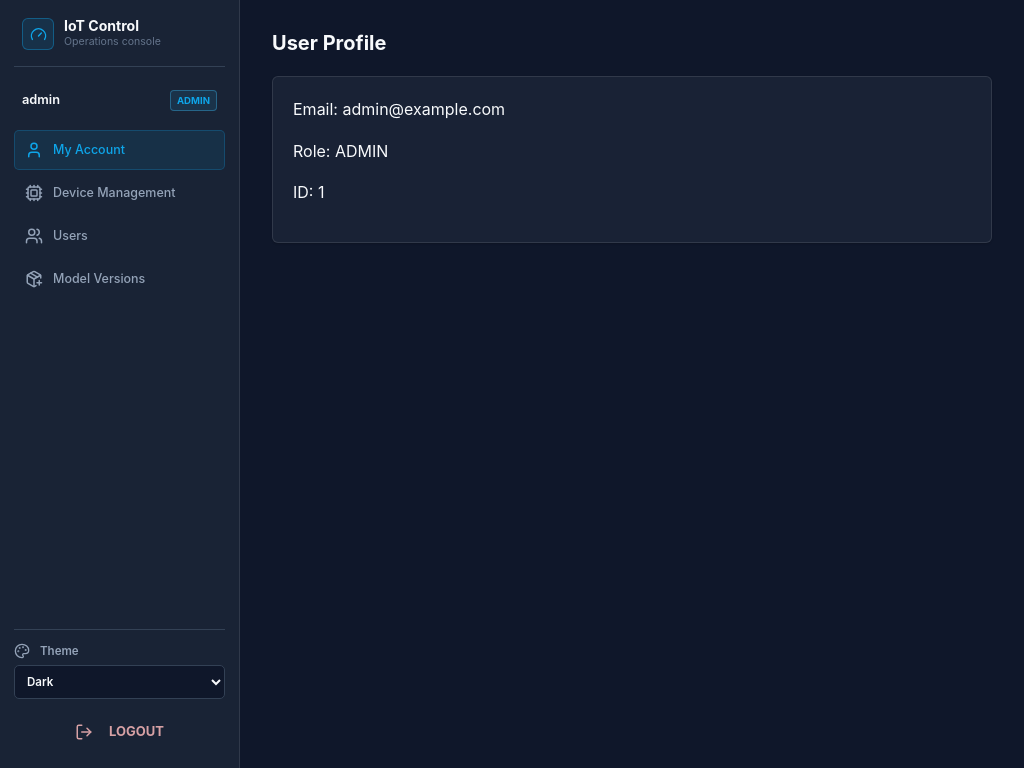
Test case: Admin User Management › should reject and remove a pending user
Click the button "Users".
click(120, 236)  # box [14,216,225,256]
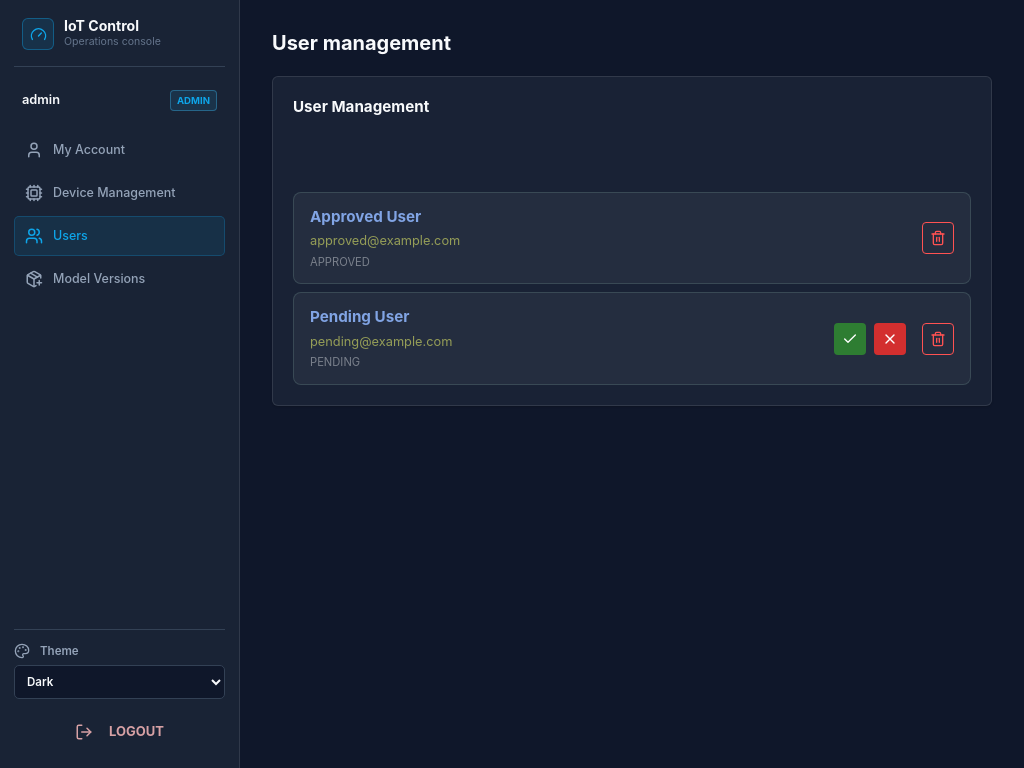
Check: the heading "User Management" is shown, box [293,97,429,116]
Click the button with test id "decline-user-2".
click(890, 339)  # box [874,323,906,355]
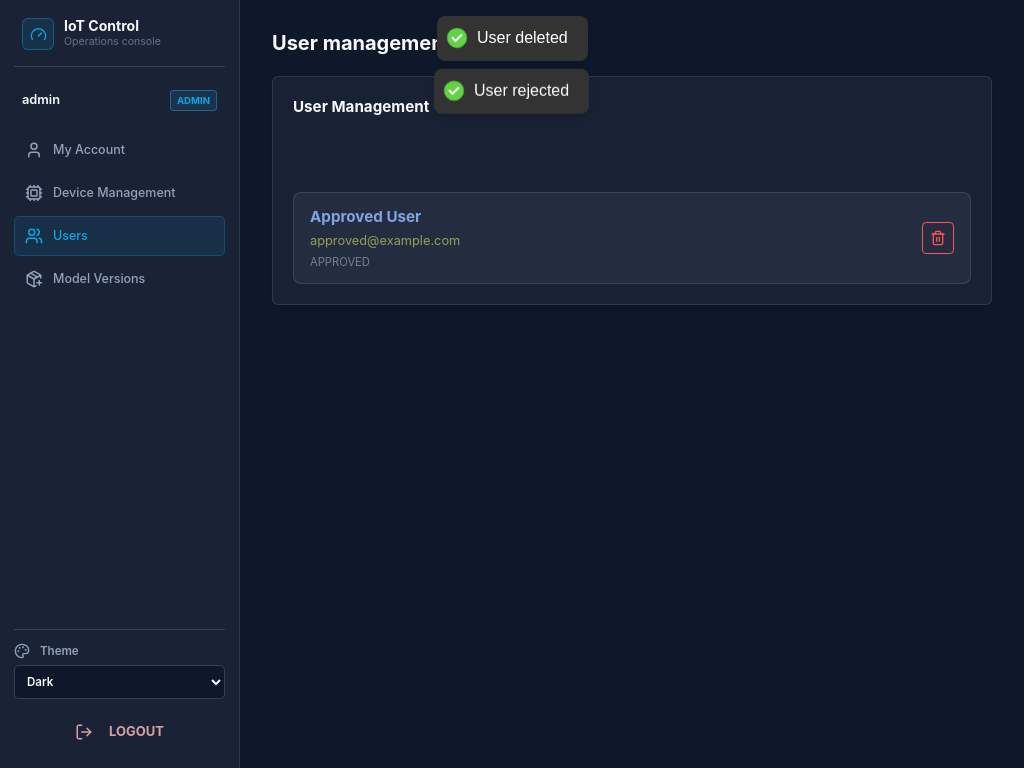
Check: the text "pending@example.com" is gone
Check: the text "User rejected" is shown, box [474,81,570,102]
